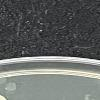white: (0, 88, 9, 99)
